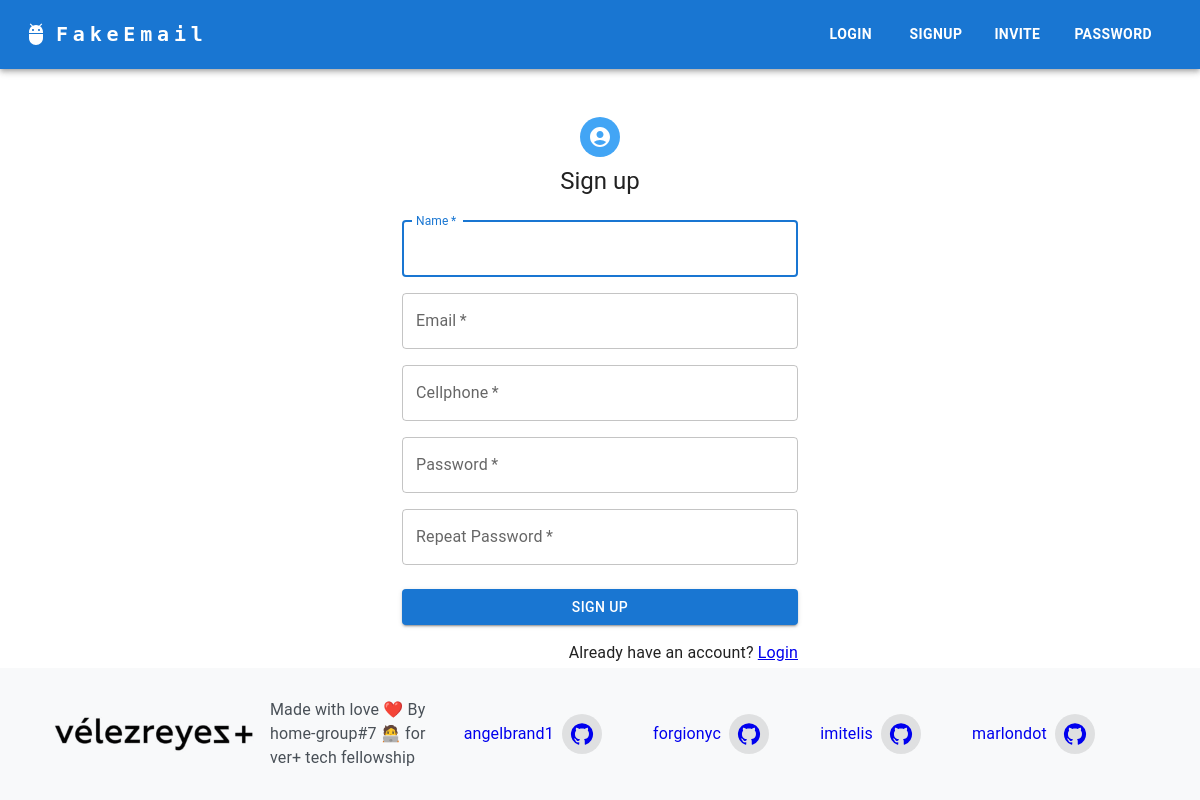
Test: Signup tests › displays error when email is not valid
The width and height of the screenshot is (1200, 800).
Type "test user" into the field named "name".
click(600, 249); type("test user")  # box [402,221,798,277]
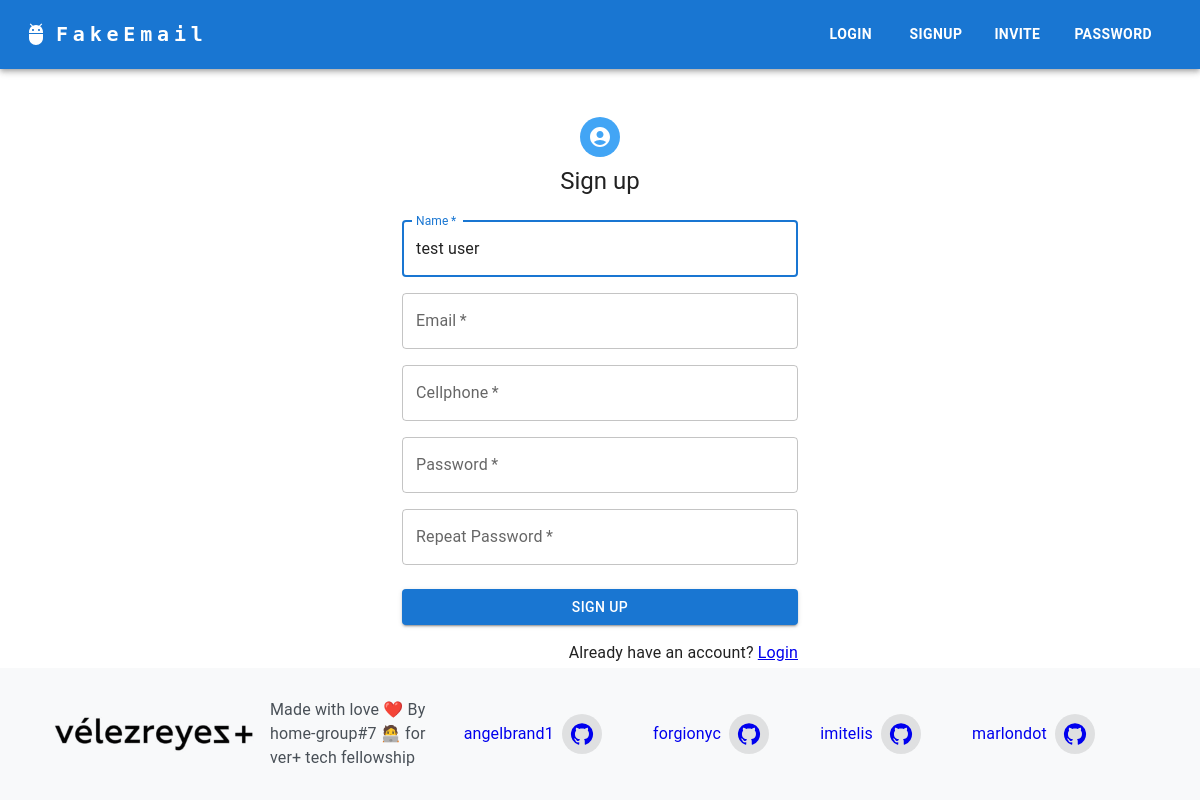
Type "test-test" into the field named "email".
click(600, 321); type("test-test")  # box [402,293,798,349]
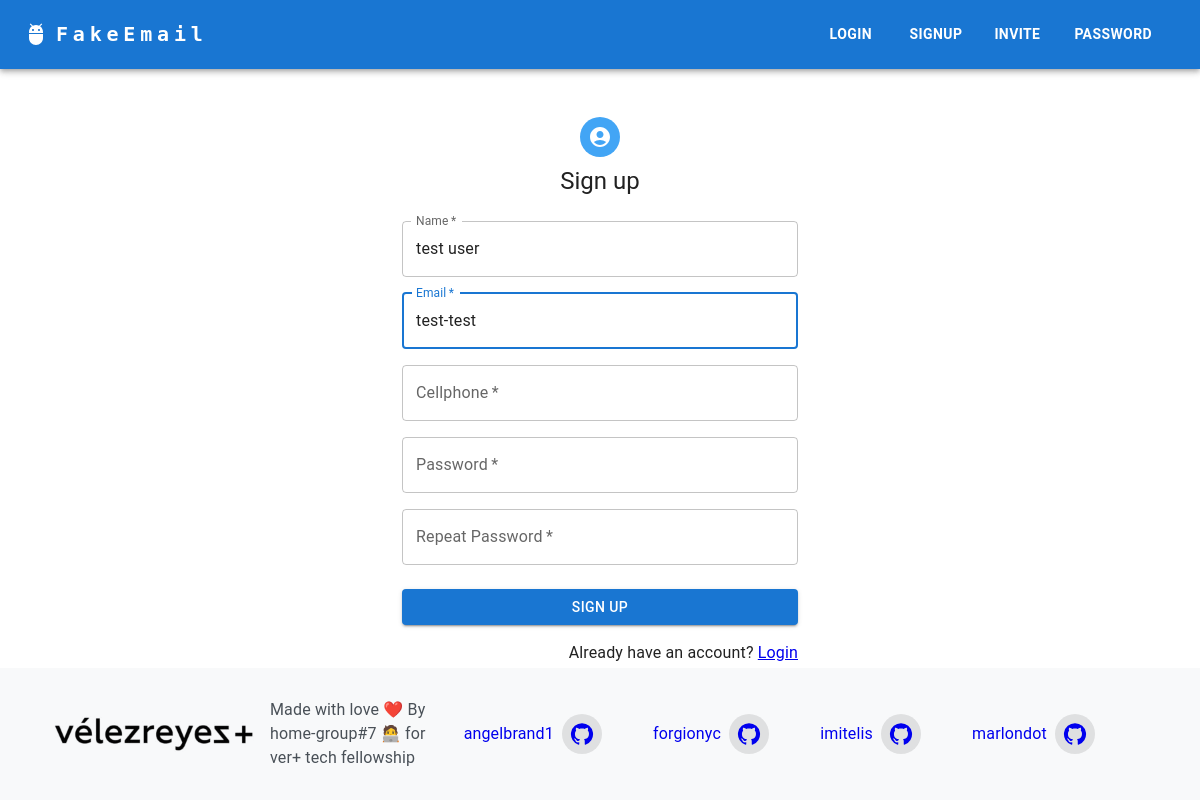
Type "3001234321" into the field named "cellphone".
click(600, 393); type("3001234321")  # box [402,365,798,421]
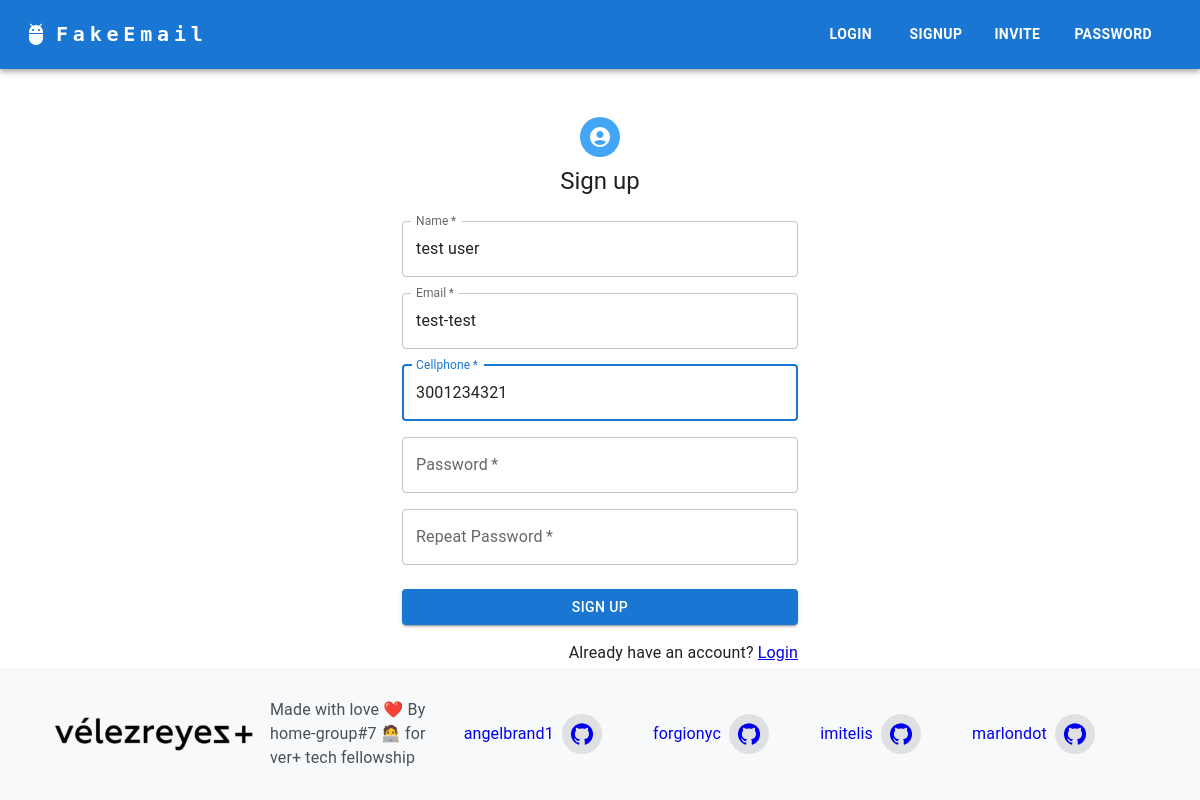
Type "validpass" into the password field named "password".
click(600, 465); type("validpass")  # box [402,437,798,493]
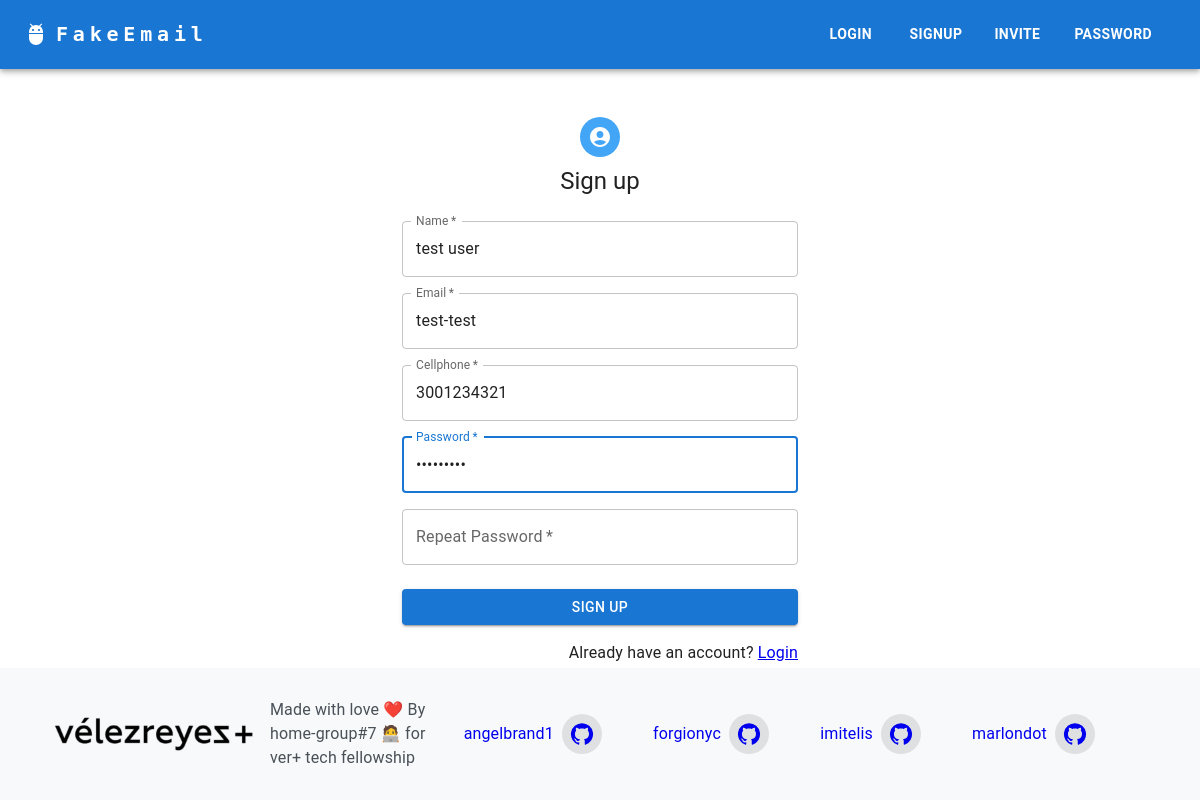
Type "validpass" into the password field named "repeatPassword".
click(600, 537); type("validpass")  # box [402,509,798,565]
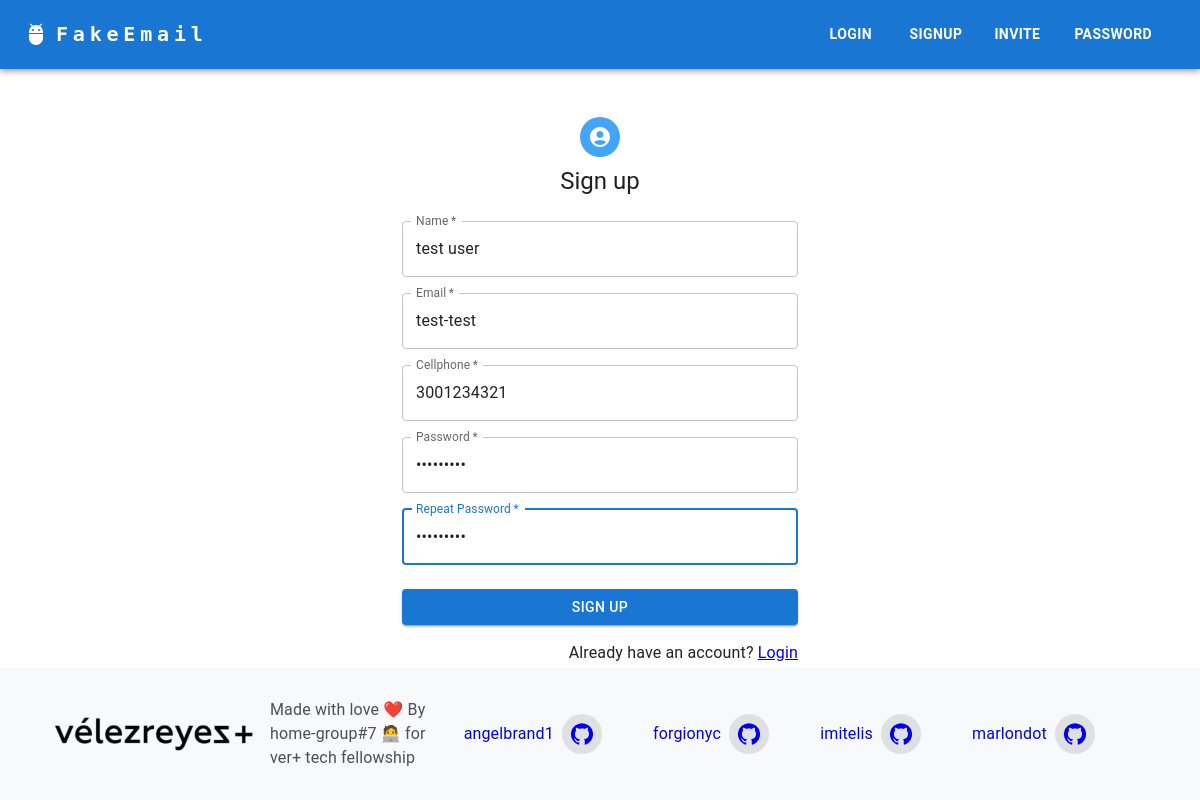
Click the button with id "signupButton".
click(600, 608)  # box [402,589,798,626]
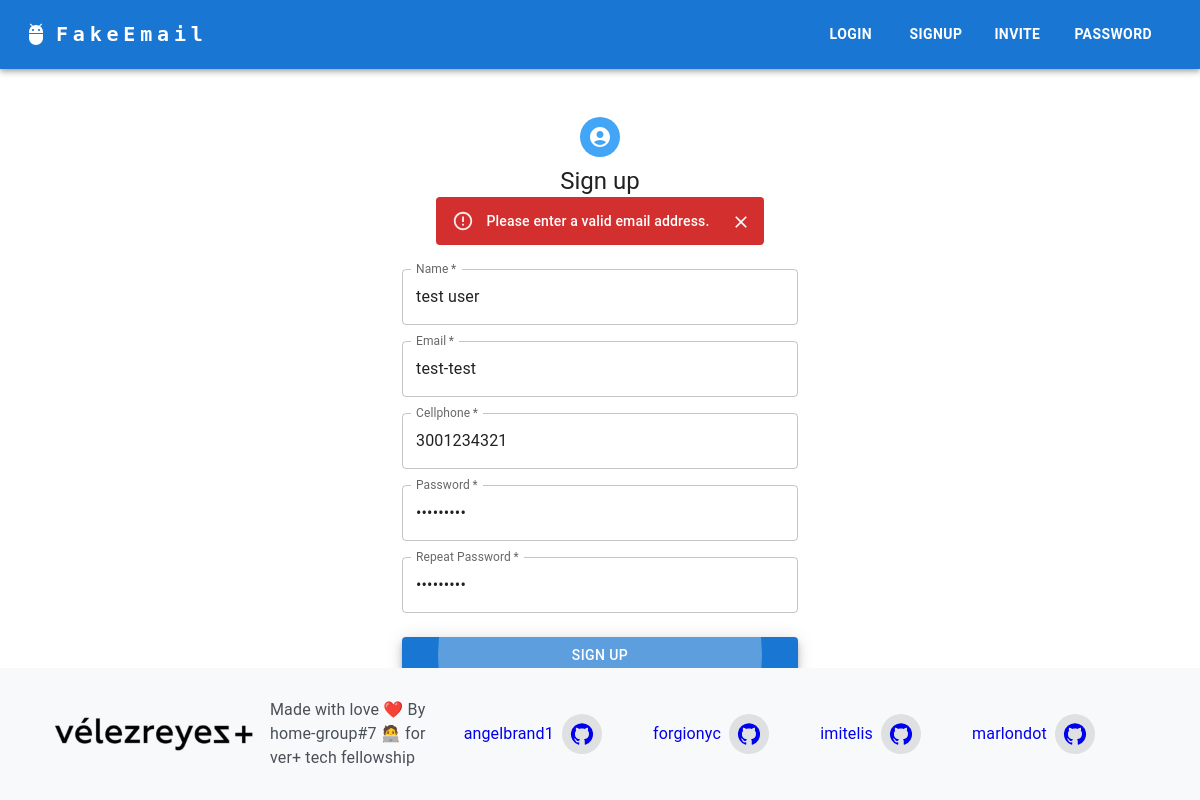
Check: the text "Please enter a valid email address." is shown, box [486,212,710,228]
